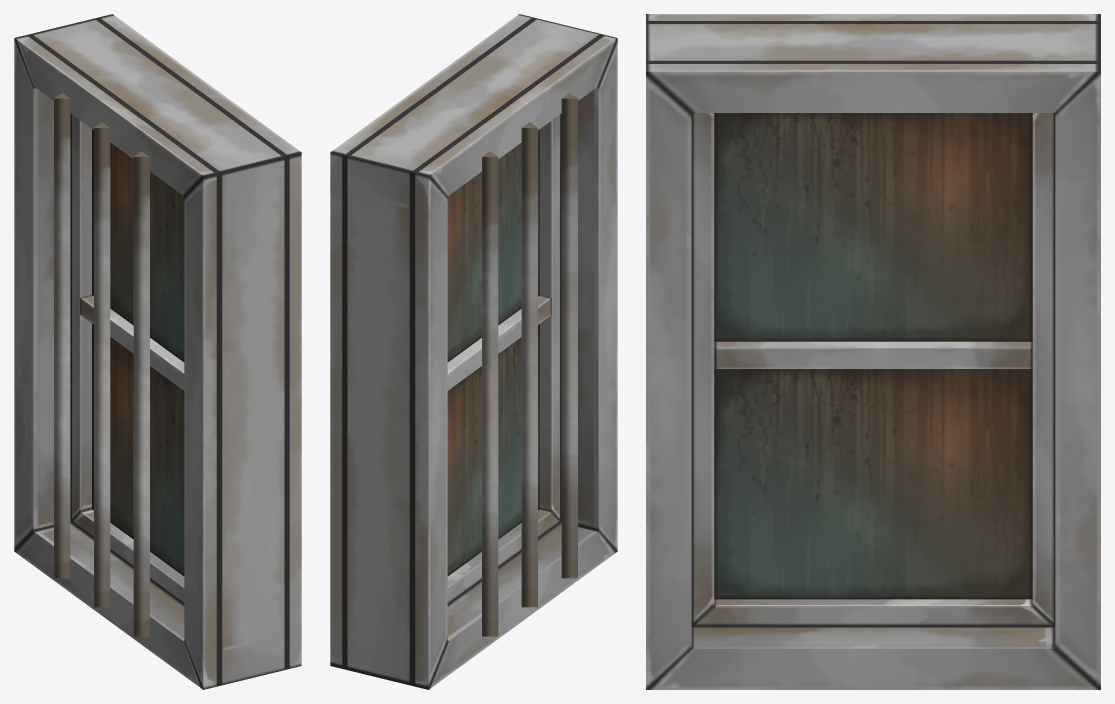
The model's file is window12_B.fbx.
3 views of the same model, side by side, from view 1: azimuth 30°, elevation 25°; view 2: azimuth 150°, elevation 25°; view 3: azimuth 270°, elevation 25° (orthographic). The views are drawn at different scales.
Visible parts, largest first — view 1: window12_B; view 2: window12_B; view 3: window12_B.
Part boxes in pixels (x1,y1,x2,y2): window12_B: [14, 14, 301, 689]; window12_B: [330, 14, 617, 689]; window12_B: [646, 14, 1100, 689].
Bounding box in the file's own units: 34.59 × 150 × 100.
